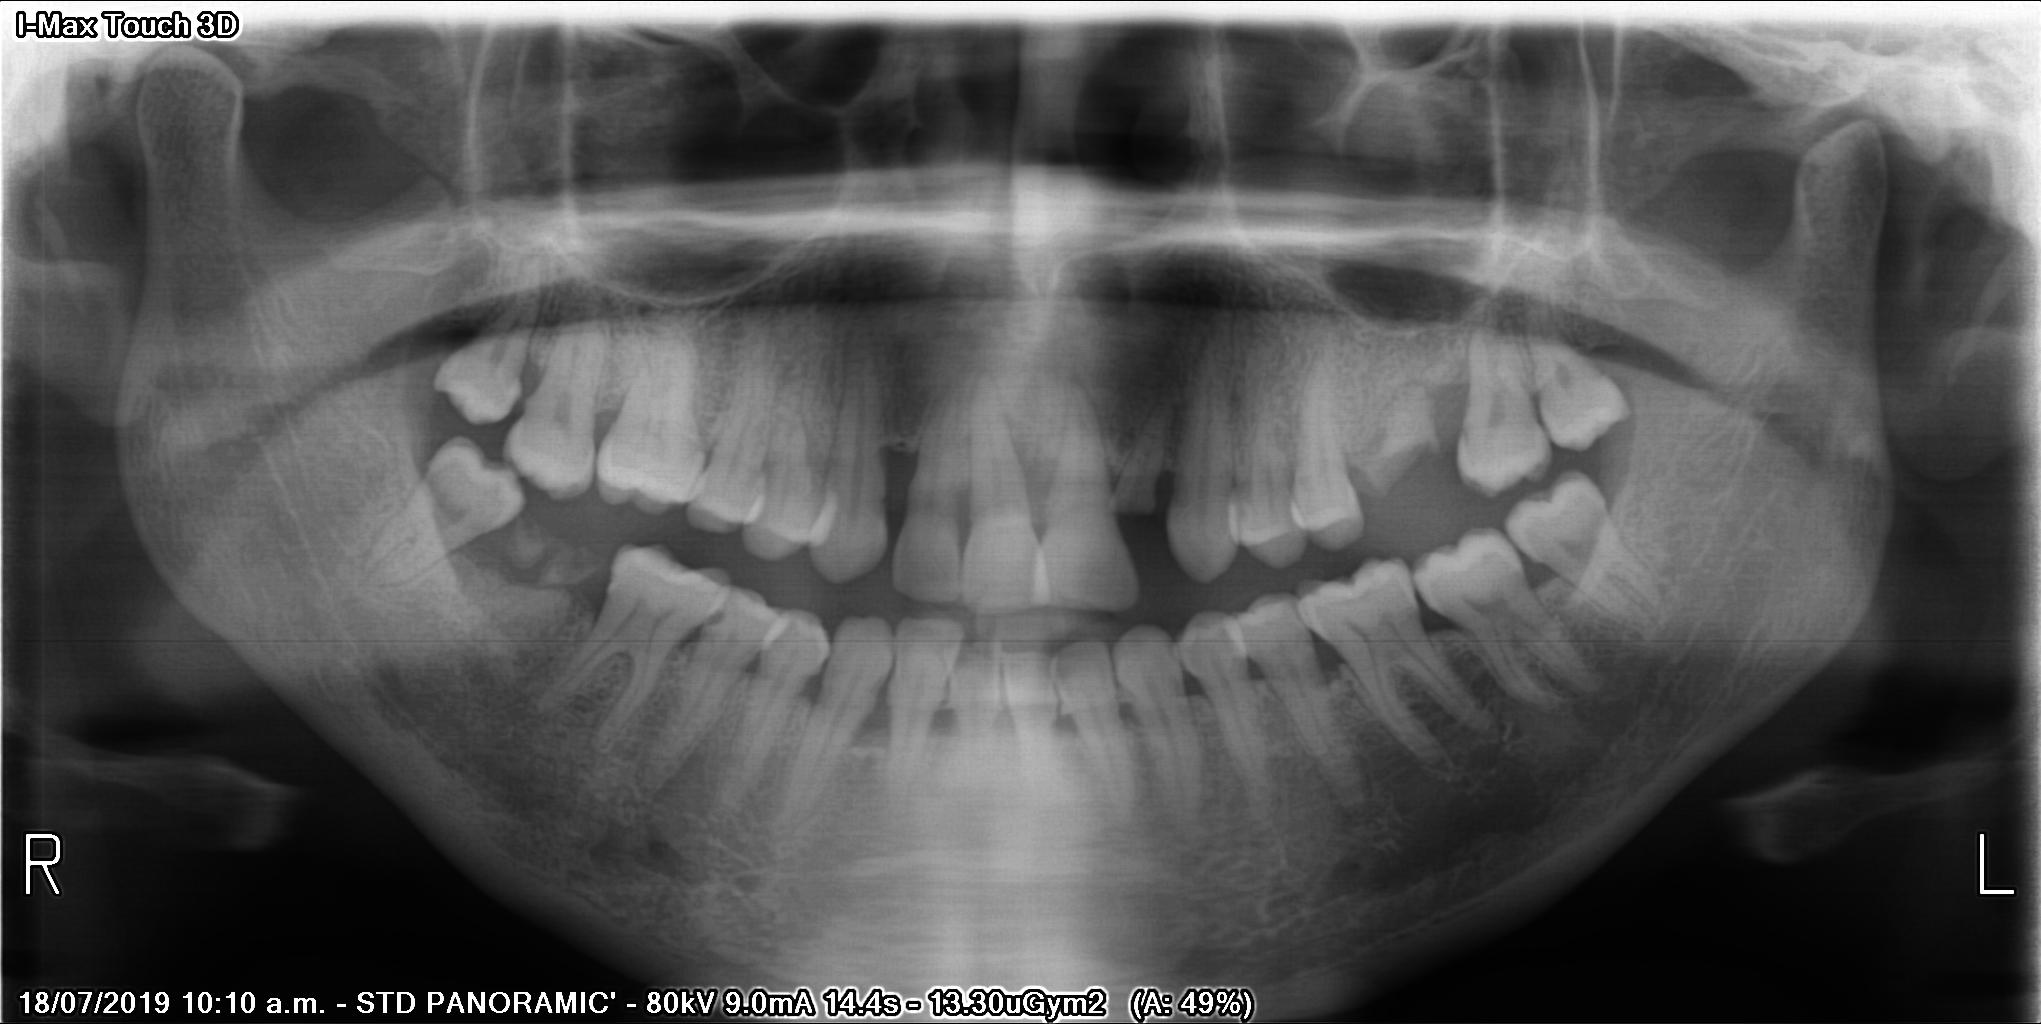Çürük Bölgesi: (701, 607, 730, 627)
